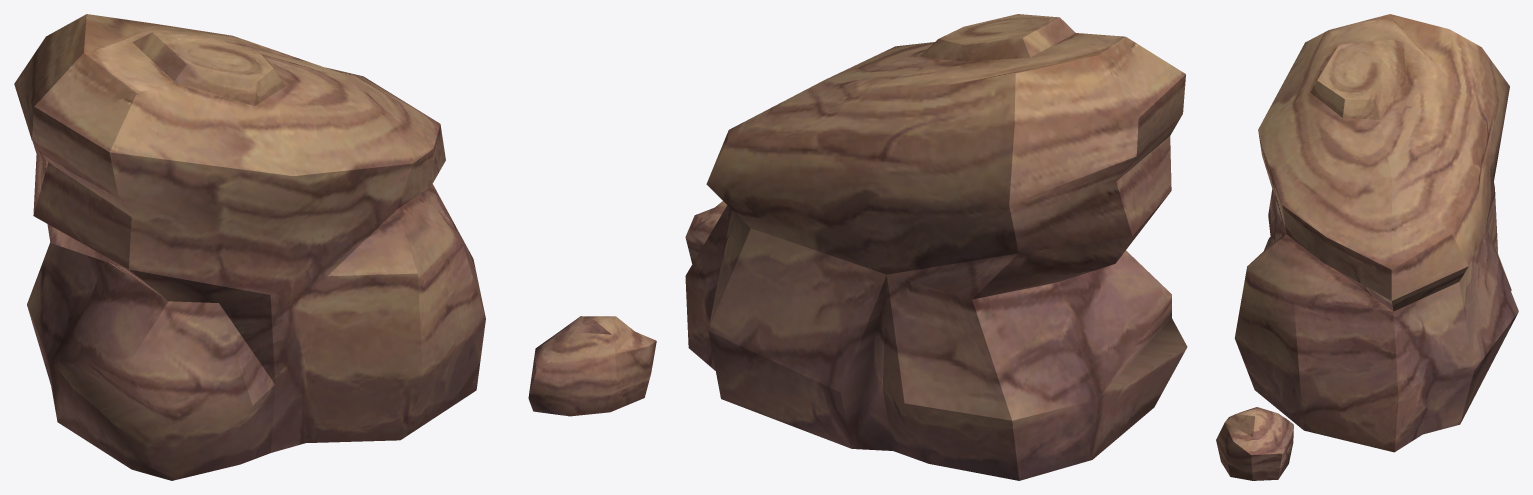
The model's file is stone_01.FBX.
The picture shows the model from 3 angles, left to right: view 1: azimuth 30°, elevation 25°; view 2: azimuth 150°, elevation 25°; view 3: azimuth 270°, elevation 25°; orthographic projection. The views are drawn at different scales.
Visible parts, largest first — view 1: stone_01; view 2: stone_01; view 3: stone_01.
Boxes of the visible parts, box(x1,y1,x2,y2) form: stone_01: box(14, 14, 656, 480); stone_01: box(685, 14, 1187, 480); stone_01: box(1216, 14, 1518, 480).
Size of the model in its own units: 3.64 by 2.52 by 2.36.
